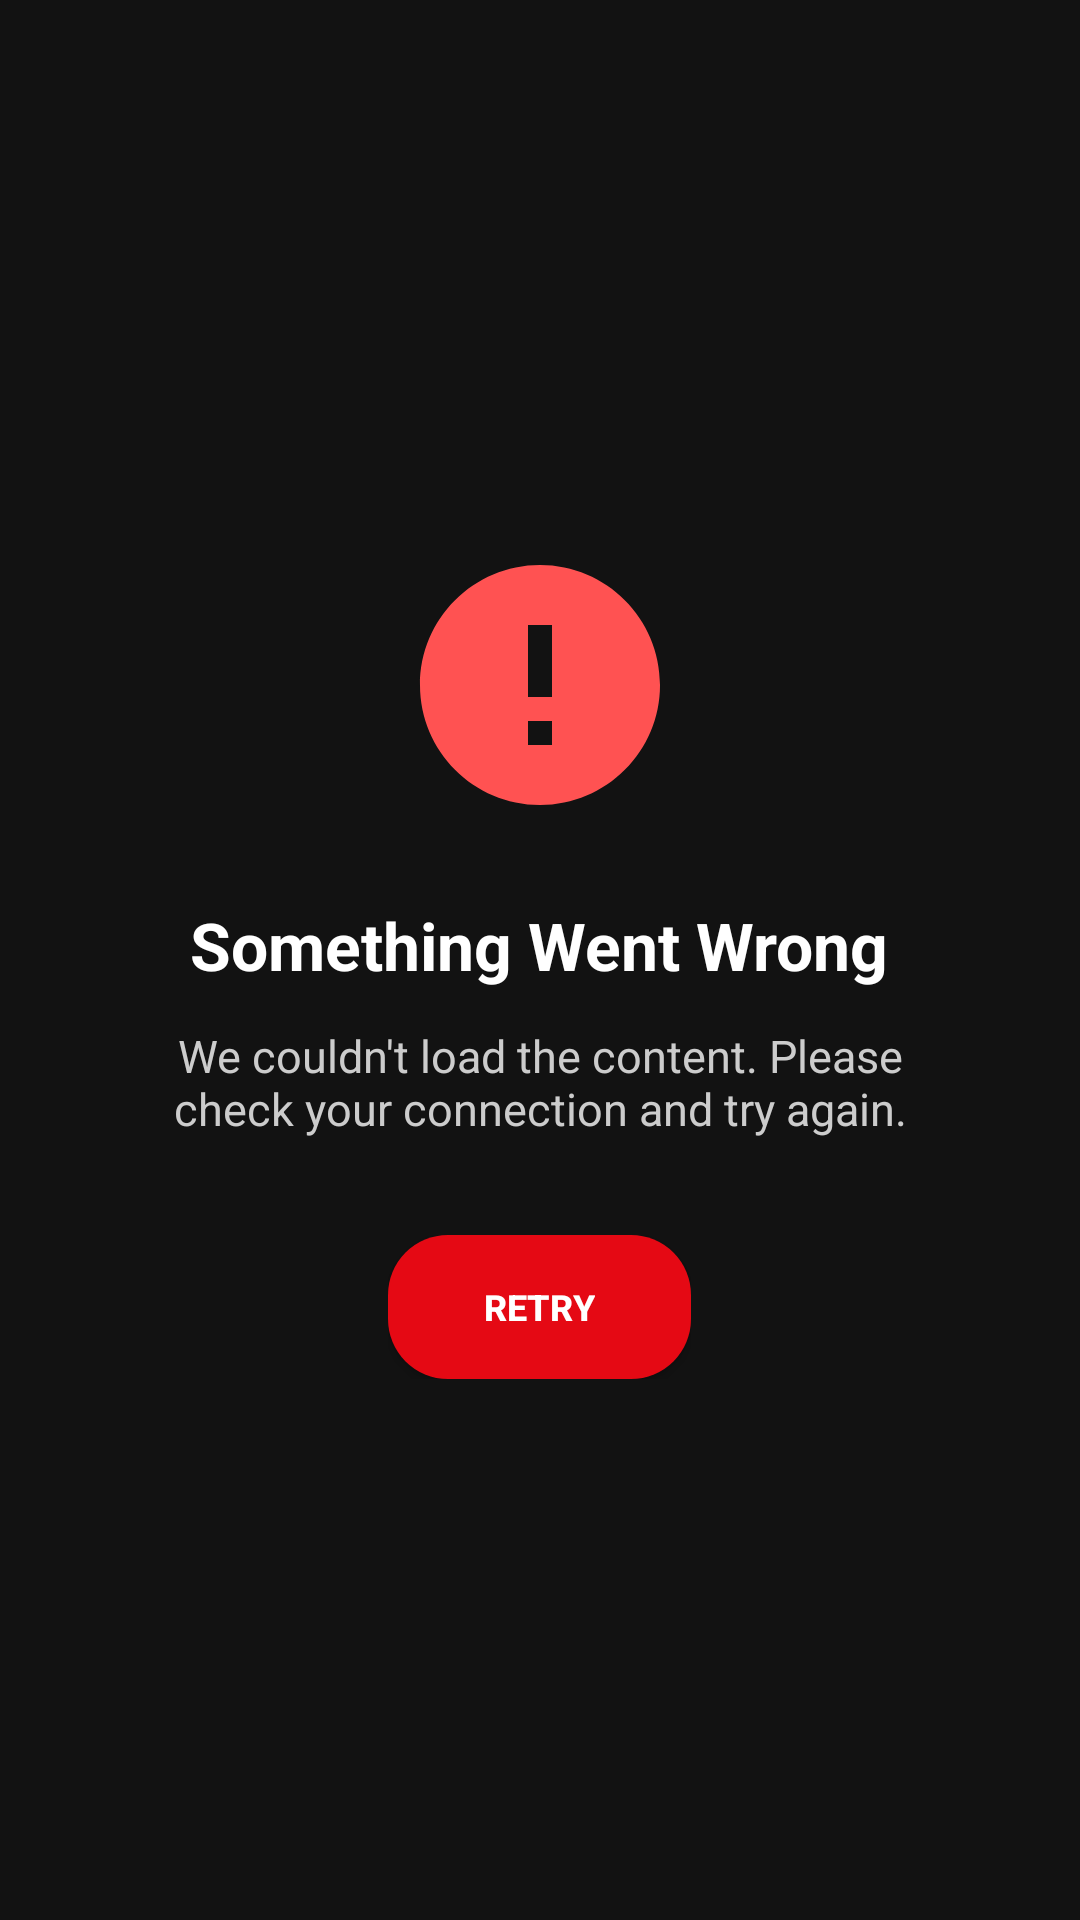

Locate icon controls on the screen. Image size 1080x1920, boxes as {"x1": x1, "y1": y1, "x2": x2, "y2": y2}.
error: {"x1": 420, "y1": 565, "x2": 660, "y2": 805}
